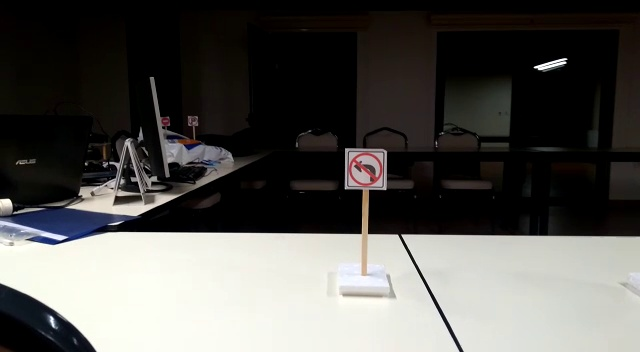sola_donulmez: (346, 151, 384, 189)
